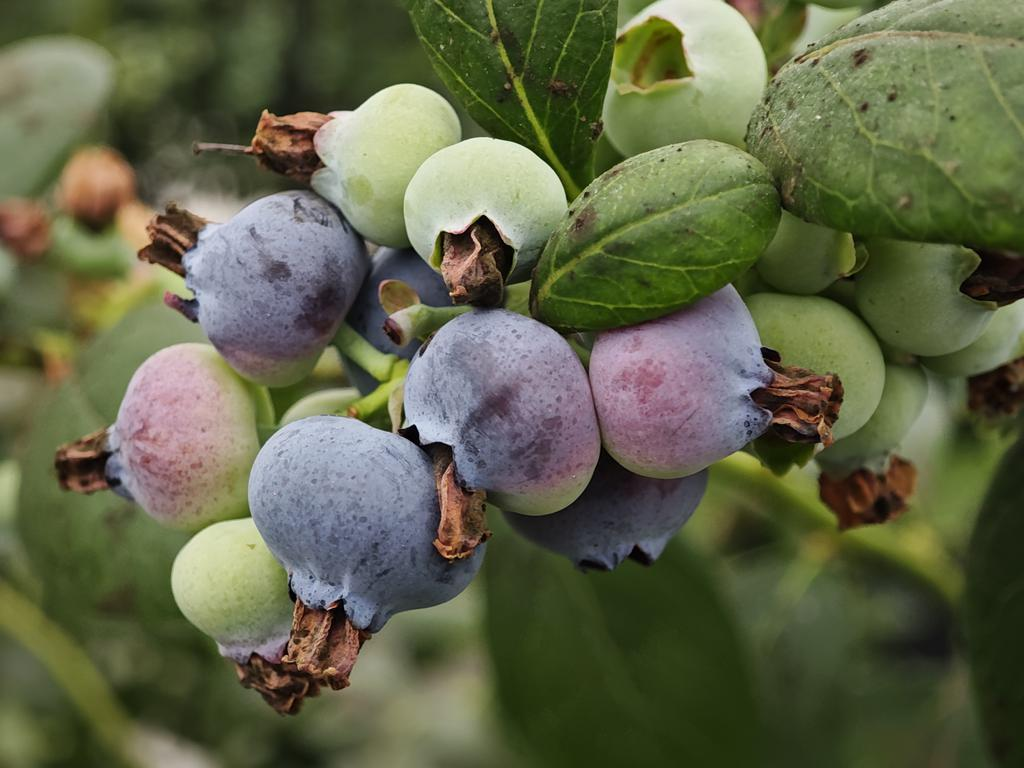RipeBlueBerry: (244, 410, 490, 653)
Semi-RipeBlueBerry: (407, 305, 602, 526), (594, 272, 792, 483), (104, 340, 269, 528)
UnripeBlueBerry: (399, 132, 572, 296)
